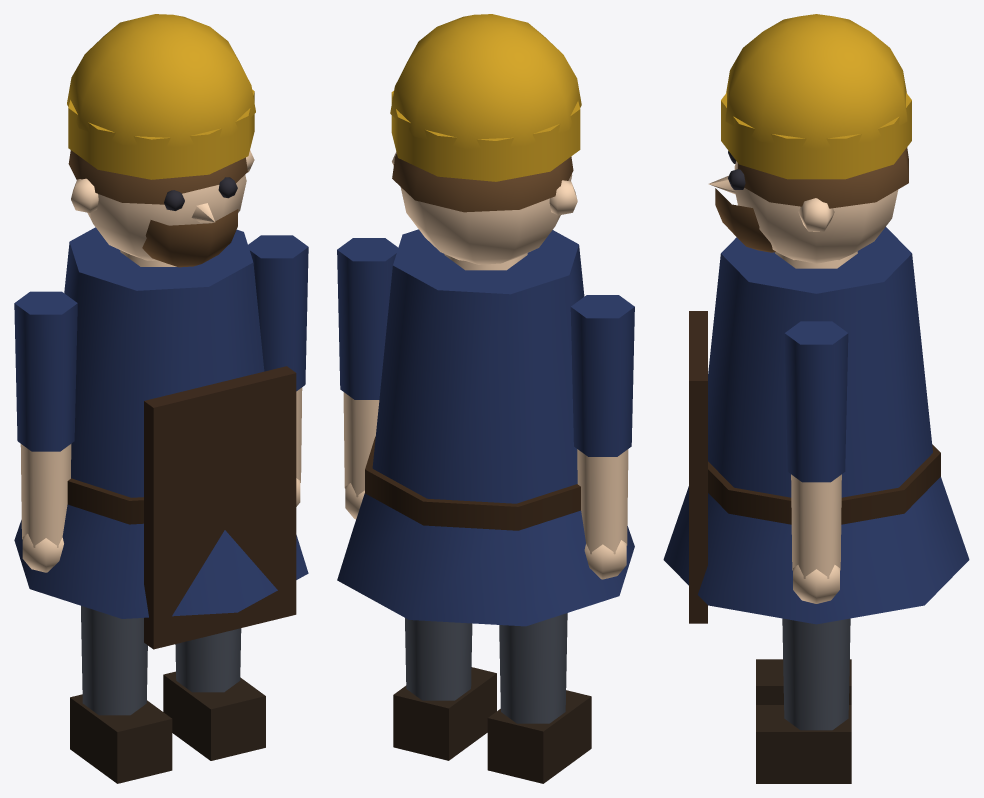
Rendered from w_goldschmied.glb.
3 renders of one model, left to right at view 1: azimuth 30°, elevation 25°; view 2: azimuth 150°, elevation 25°; view 3: azimuth 270°, elevation 25°, orthographic.
Visible parts, largest first — view 1: worker, arm_l, leg_l, leg_r, arm_r; view 2: worker, arm_l, leg_l, leg_r, arm_r; view 3: worker, arm_r, leg_r, leg_l.
Part boxes in pixels (<box>): worker: <box>14,14,308,649</box>; arm_l: <box>14,291,77,572</box>; leg_l: <box>70,606,172,783</box>; leg_r: <box>163,628,265,760</box>; arm_r: <box>248,235,308,506</box>; worker: <box>337,14,634,626</box>; arm_l: <box>570,295,634,579</box>; leg_l: <box>487,613,591,783</box>; leg_r: <box>393,618,496,760</box>; arm_r: <box>337,238,398,519</box>; worker: <box>663,14,969,624</box>; arm_r: <box>784,321,848,603</box>; leg_r: <box>756,618,851,783</box>; leg_l: <box>756,659,851,704</box>.
Bounding box in the file's own units: 0.4053 × 1 × 0.384.
